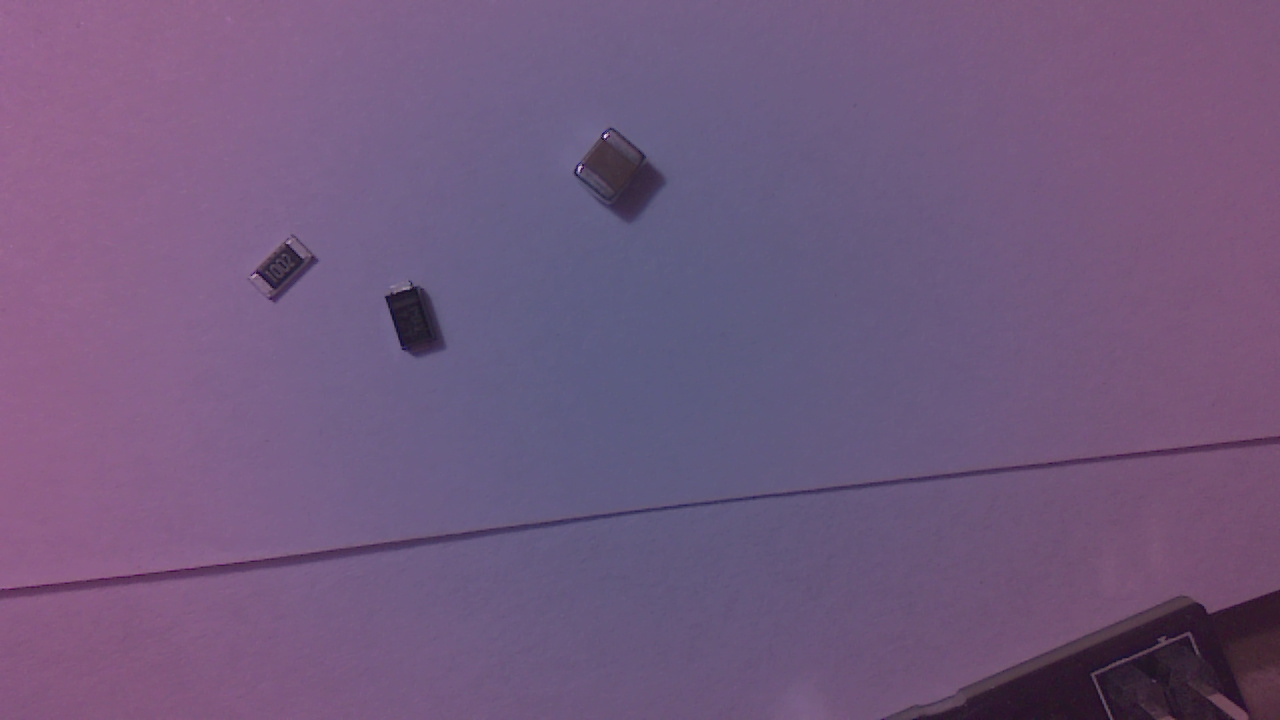Condensator: (579, 132, 654, 209)
Diode: (386, 282, 449, 361)
Resistor: (254, 235, 320, 308)
